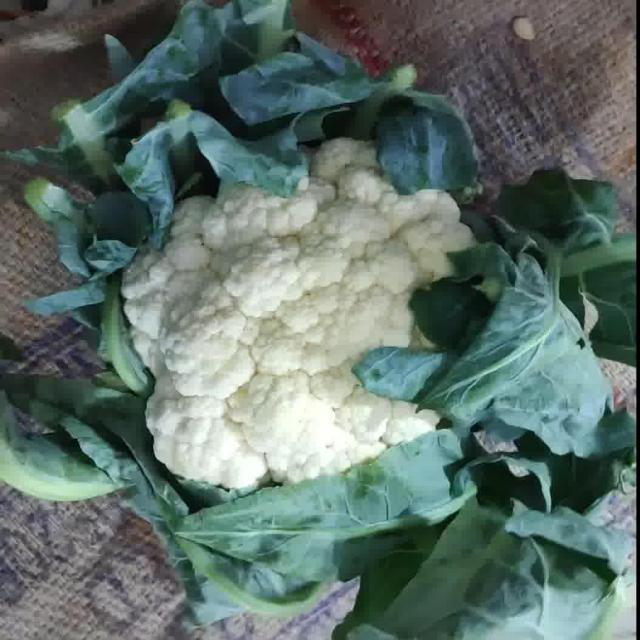Cauliflower: (122, 139, 474, 490)
